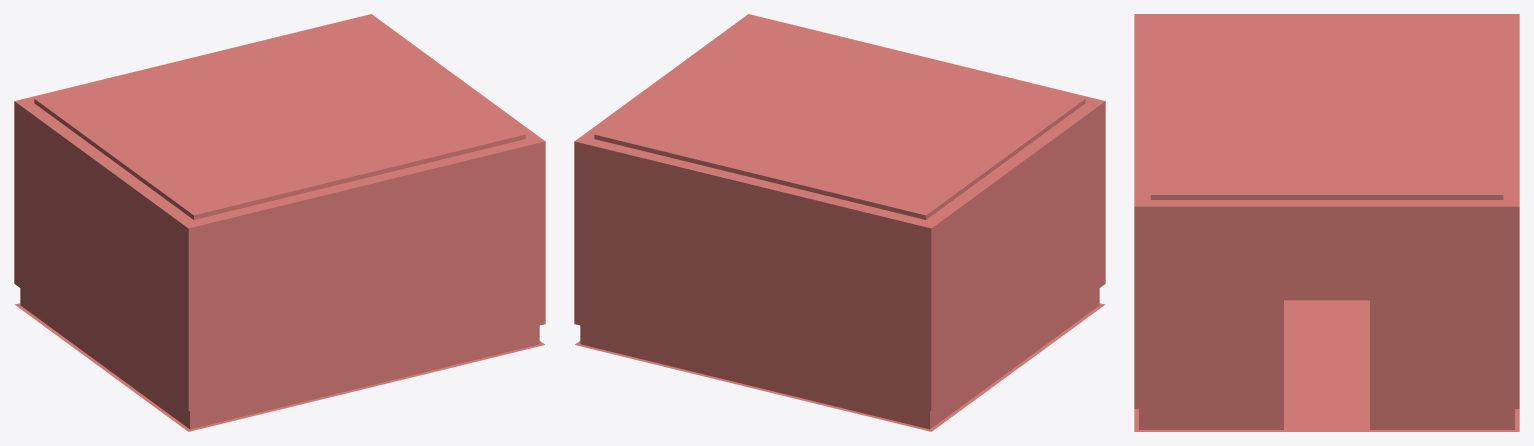
File: models.fbx_home_h.fbx
3 views of the same model, side by side, from view 1: azimuth 30°, elevation 25°; view 2: azimuth 150°, elevation 25°; view 3: azimuth 270°, elevation 25° (orthographic). The views are drawn at different scales.
Visible parts, largest first — view 1: home_h; view 2: home_h; view 3: home_h.
Part boxes in pixels (x1=…): home_h: x1=14, y1=14, x2=545, y2=431; home_h: x1=574, y1=14, x2=1105, y2=431; home_h: x1=1134, y1=14, x2=1519, y2=431.
Size of the model in its own units: 733 by 408 by 619.
